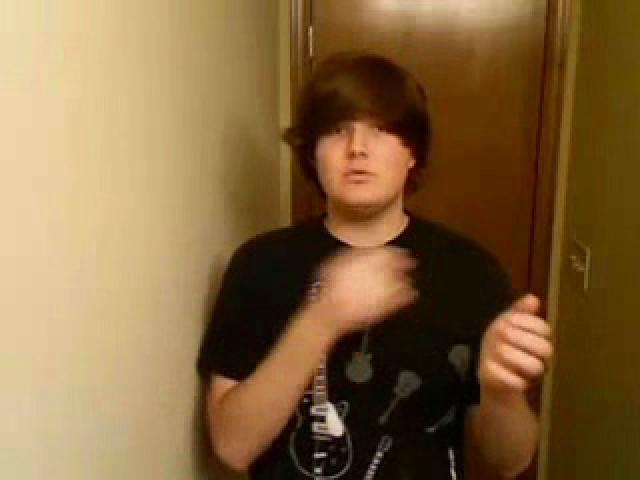F: (201, 63, 541, 480)
